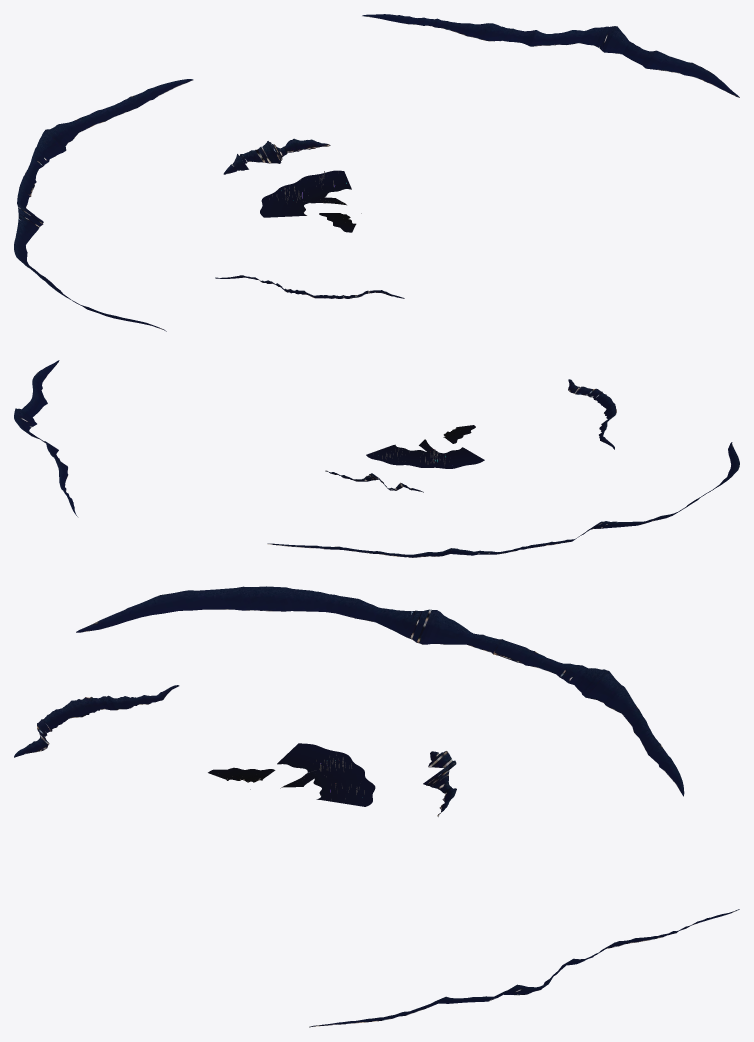
Rendered from room-desktop.glb.
3 views of the same model, one above another, from view 1: azimuth 30°, elevation 25°; view 2: azimuth 150°, elevation 25°; view 3: azimuth 270°, elevation 25° (orthographic). The views are drawn at different scales.
Parts seen in each view (by area): view 1: Outside_Land; view 2: Outside_Land; view 3: Outside_Land.
Boxes of the visible parts, x1,y1,x2,y2 form: Outside_Land: (14,14,739,331); Outside_Land: (14,360,739,557); Outside_Land: (14,586,739,1027).
Size of what is drawn, in the model's own units: 61477 by 1529 by 44306.
43 materials, 15 textured.
